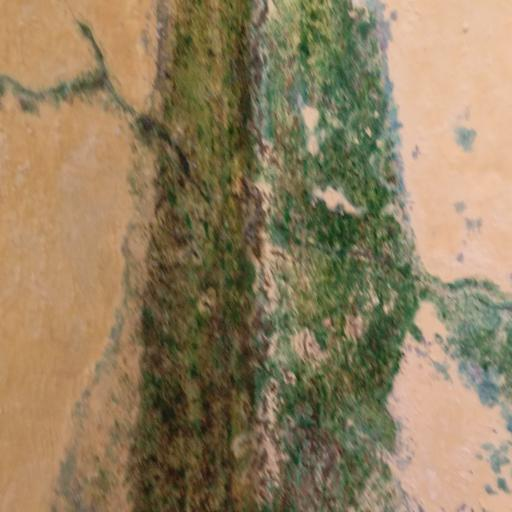algae: (99, 6, 512, 512)
